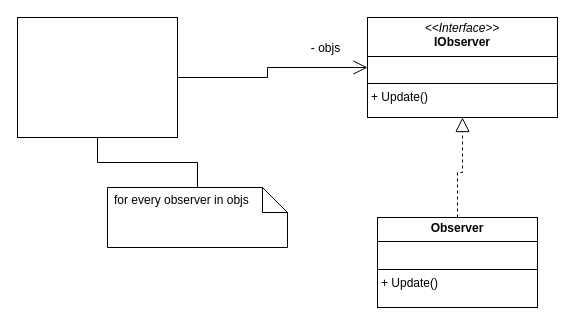
Some shapes in this 575 by 325 pixel diagram are drawn without their labels. Here are the shapes that lost their labels. From the top down, the box of each, then its label:
(16, 16, 178, 138): Subject + Attach(obs: IObserver) + Detach(obs: IObserver) + Notify
(106, 186, 288, 248): observer.Update()
